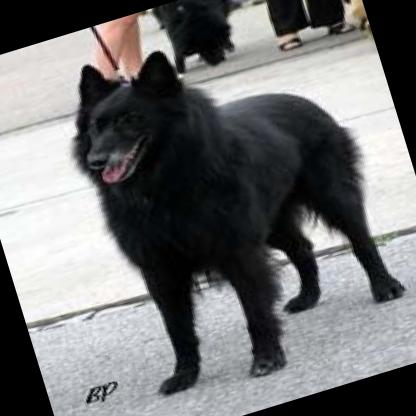groenendael: (40, 0, 416, 412)
